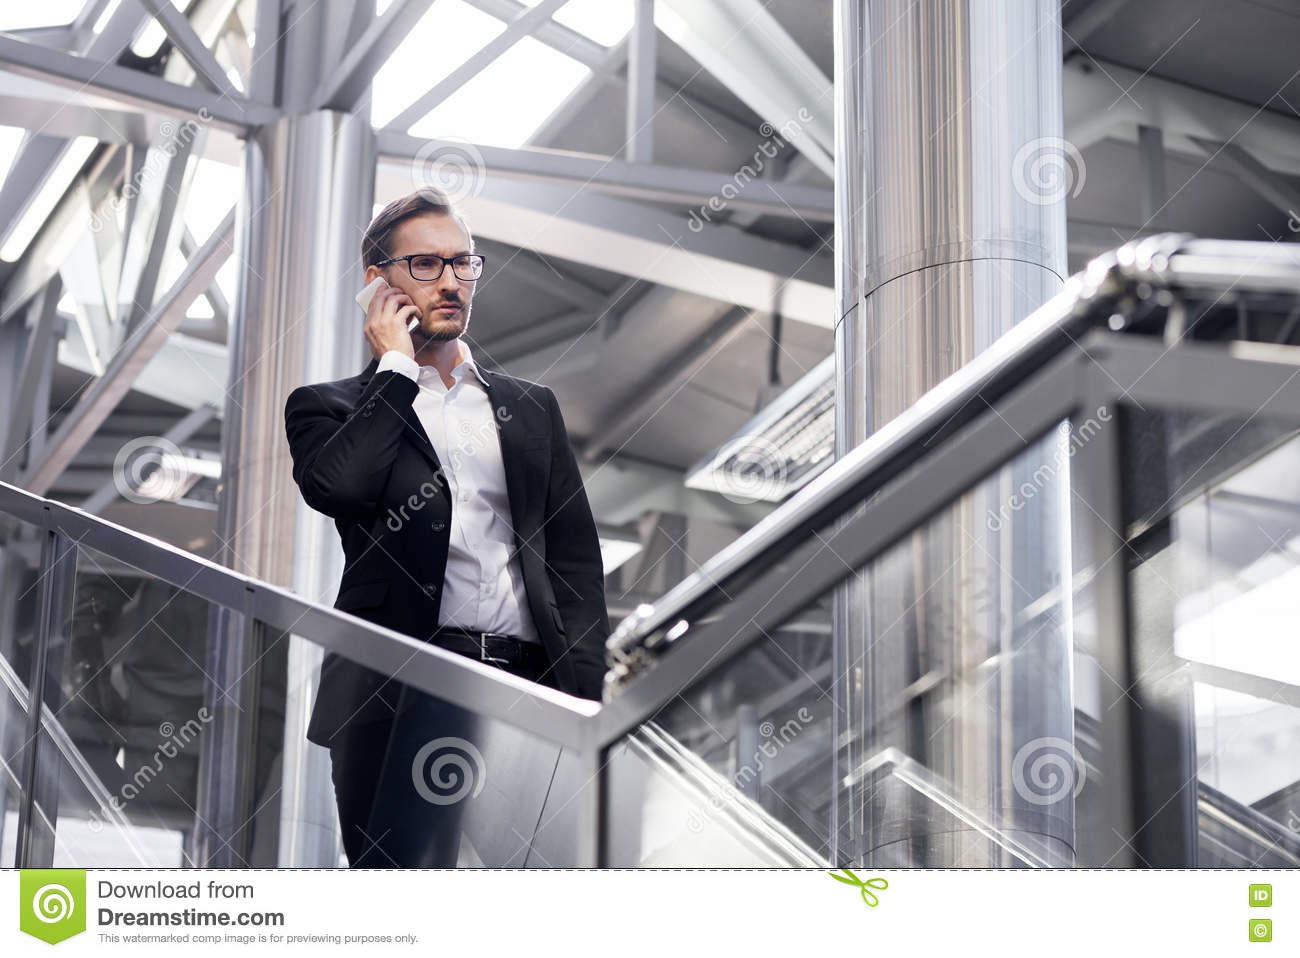phone: (354, 275, 417, 339)
talk: (355, 246, 476, 370)
